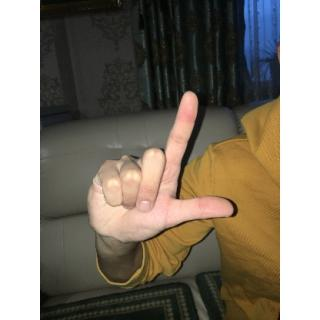LAAM: (86, 82, 239, 248)
